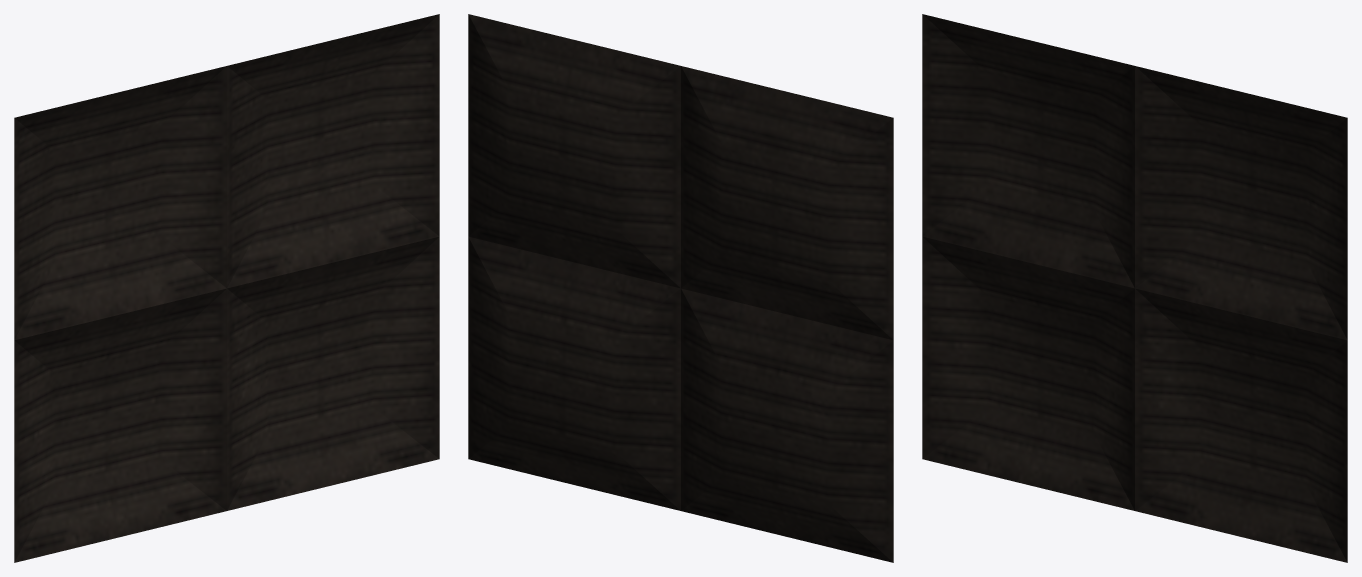
Rendered from wall_8.fbx.
The picture shows the model from 3 angles, left to right: view 1: azimuth 30°, elevation 25°; view 2: azimuth 150°, elevation 25°; view 3: azimuth 330°, elevation 25°; orthographic projection.
Visible parts, largest first — view 1: wall_8; view 2: wall_8; view 3: wall_8.
Boxes of the visible parts, <box> form: wall_8: <box>14,14,439,562</box>; wall_8: <box>468,14,893,562</box>; wall_8: <box>922,14,1347,562</box>.
Bounding box in the file's own units: 200 × 200 × 10.
